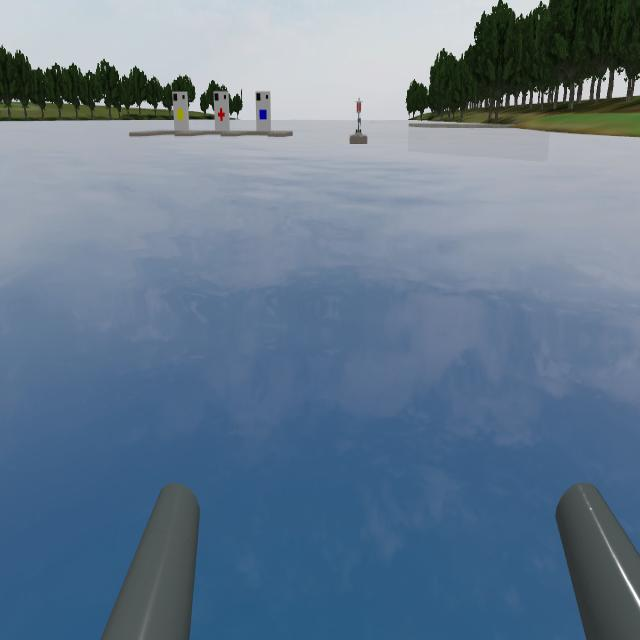red_pole: (354, 93, 368, 129)
